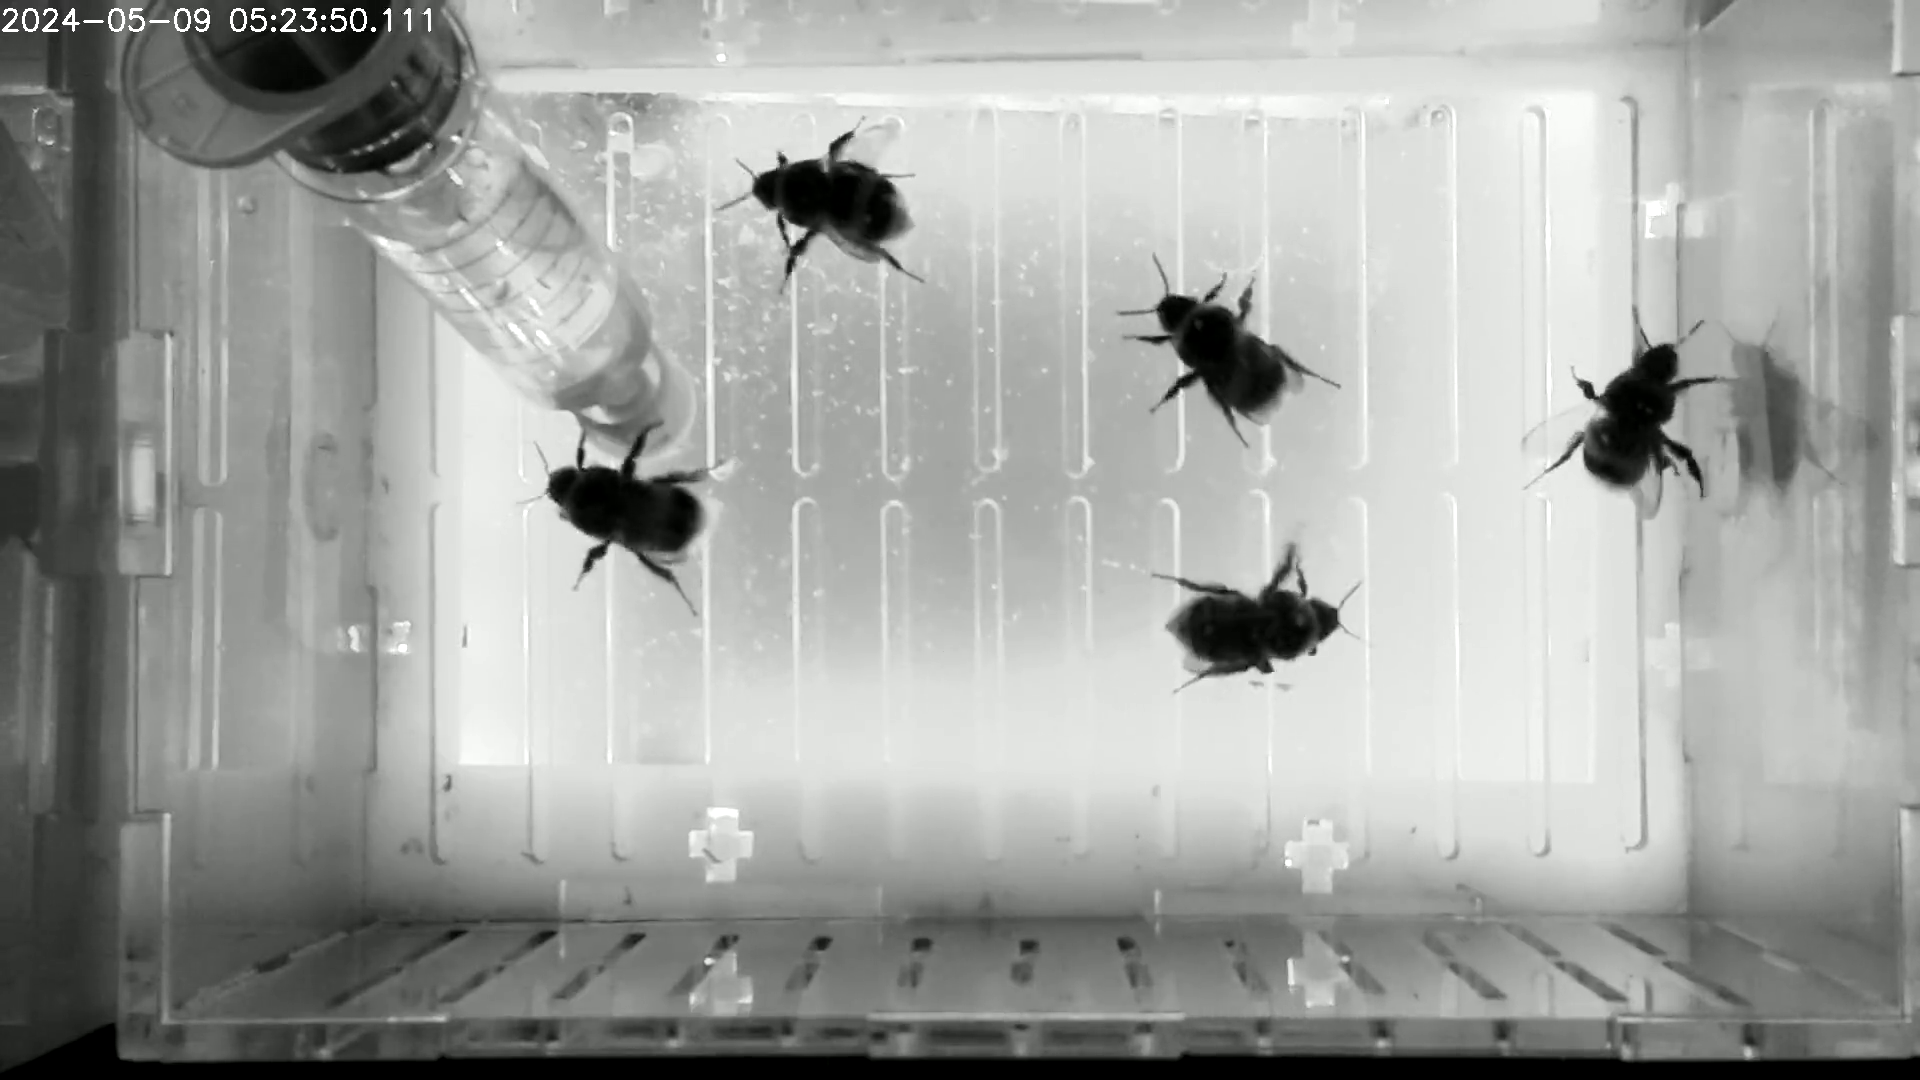bee: (1095, 252, 1349, 459), (1509, 299, 1734, 530), (509, 411, 728, 636), (692, 109, 932, 302), (1118, 530, 1385, 702)
feeder: (331, 86, 659, 414)
